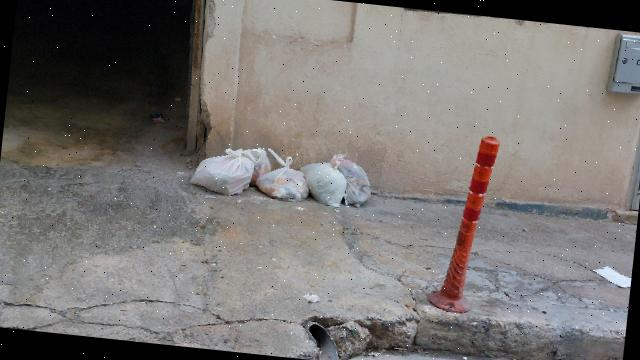Organic -White-: (191, 149, 257, 196), (256, 149, 309, 202), (329, 154, 371, 207), (300, 163, 346, 207), (247, 148, 271, 185)
